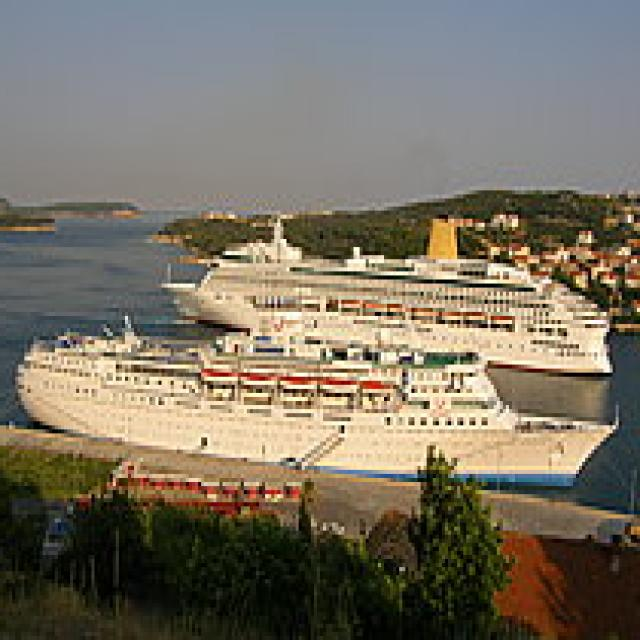Cruise: (15, 308, 628, 486), (162, 206, 618, 372)
